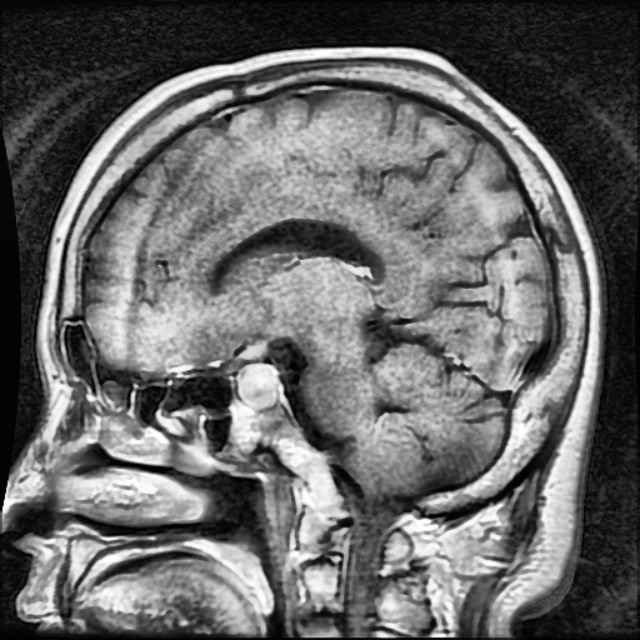Pituitary: (237, 365, 278, 412)
